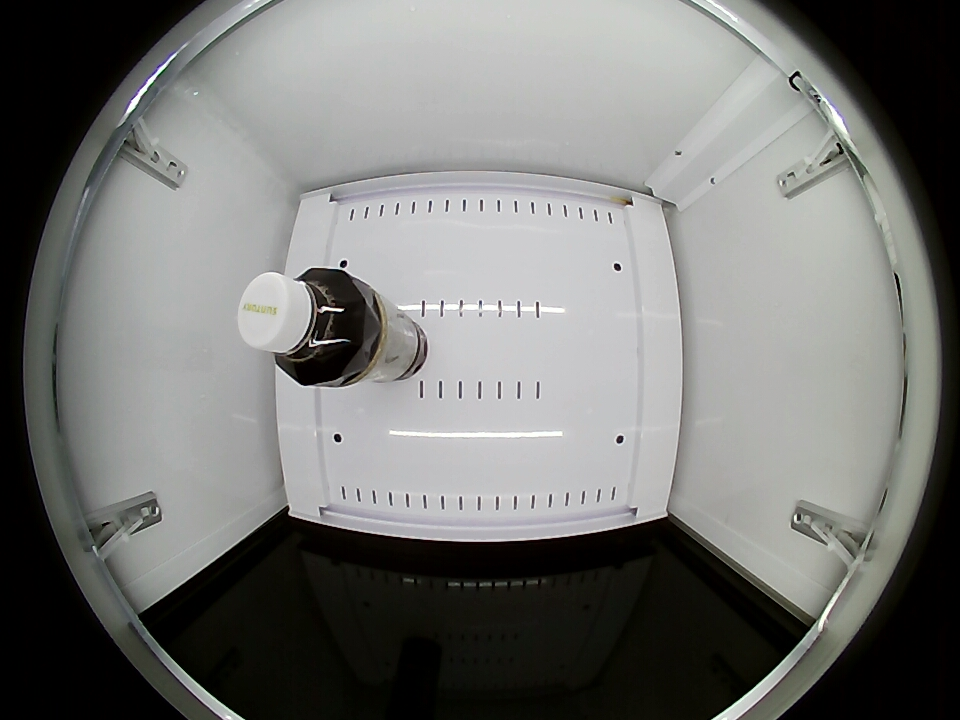wulongcha: (239, 266, 368, 385)
